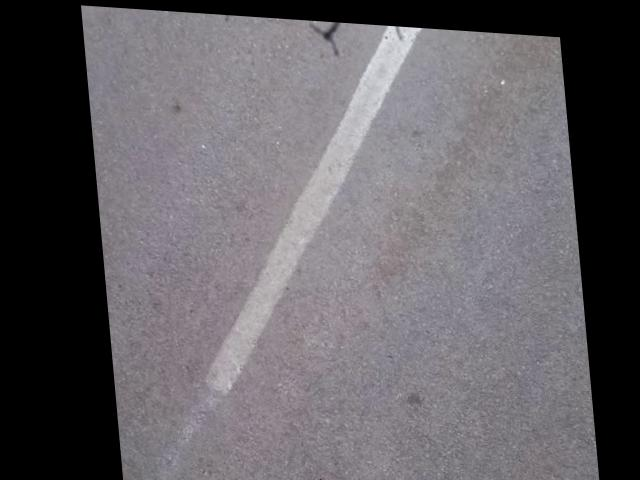fire-poster: (263, 472, 424, 480)
